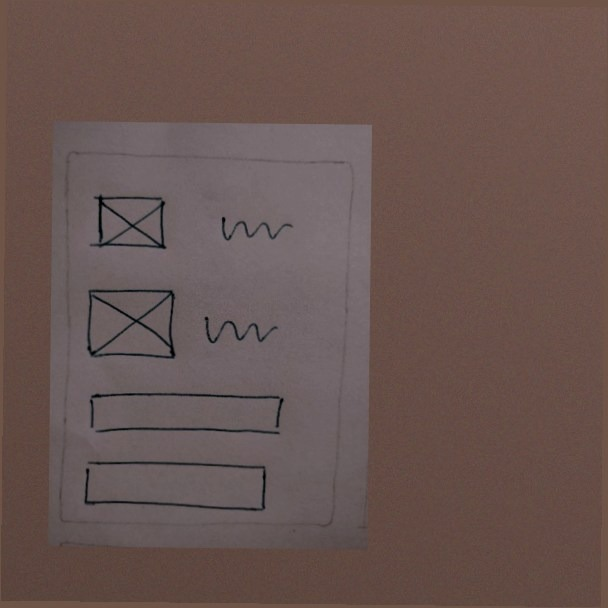image: (81, 282, 181, 368), (85, 187, 174, 259)
text: (192, 308, 286, 356), (209, 206, 302, 254)
text_input: (77, 455, 282, 515), (86, 384, 290, 444)
